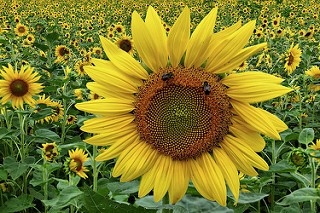flower: (74, 3, 290, 206), (0, 60, 45, 112), (282, 42, 303, 77)
